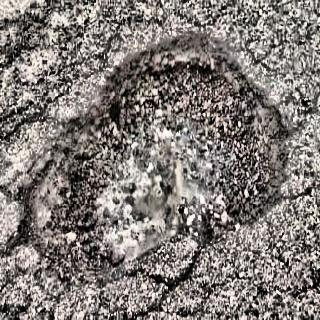pothole: (9, 19, 293, 299)
